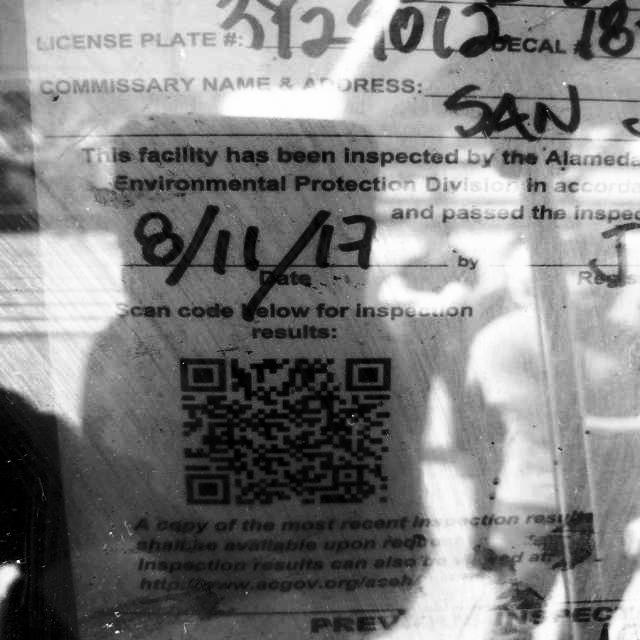qr_code: (149, 330, 406, 517)
